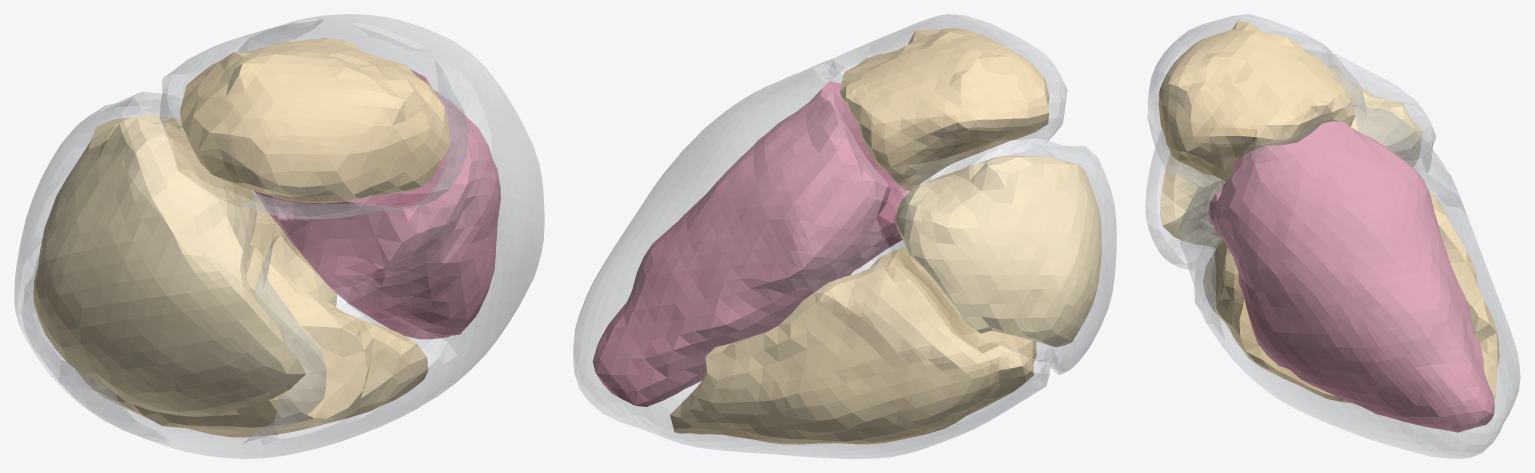
The model's file is heart-four-chamber-neutral.glb.
The picture shows the model from 3 angles, left to right: view 1: azimuth 30°, elevation 25°; view 2: azimuth 150°, elevation 25°; view 3: azimuth 270°, elevation 25°; orthographic projection. The views are drawn at different scales.
Parts seen in each view (by area): view 1: epicardium, right_atrium, left_atrium, left_ventricle, right_ventricle; view 2: epicardium, left_ventricle, right_ventricle, right_atrium, left_atrium; view 3: epicardium, left_ventricle, left_atrium, right_atrium, right_ventricle.
Boxes of the visible parts, x1,y1,x2,y2 form: epicardium: [14, 14, 544, 458]; right_atrium: [33, 113, 305, 416]; left_atrium: [180, 37, 450, 203]; left_ventricle: [254, 69, 500, 339]; right_ventricle: [76, 194, 428, 437]; epicardium: [573, 14, 1116, 458]; left_ventricle: [592, 81, 910, 406]; right_ventricle: [670, 247, 1036, 444]; right_atrium: [896, 155, 1101, 347]; left_atrium: [840, 27, 1049, 190]; epicardium: [1145, 14, 1520, 458]; left_ventricle: [1208, 121, 1494, 432]; left_atrium: [1158, 20, 1355, 181]; right_atrium: [1160, 65, 1422, 248]; right_ventricle: [1203, 190, 1499, 402].
Size of the model in its own units: 154 by 121 by 122.
